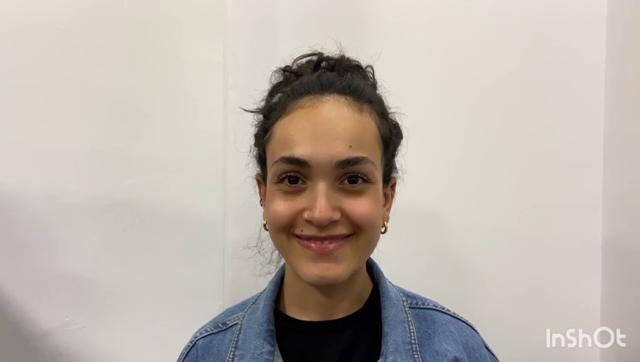senang: (264, 94, 384, 287)
